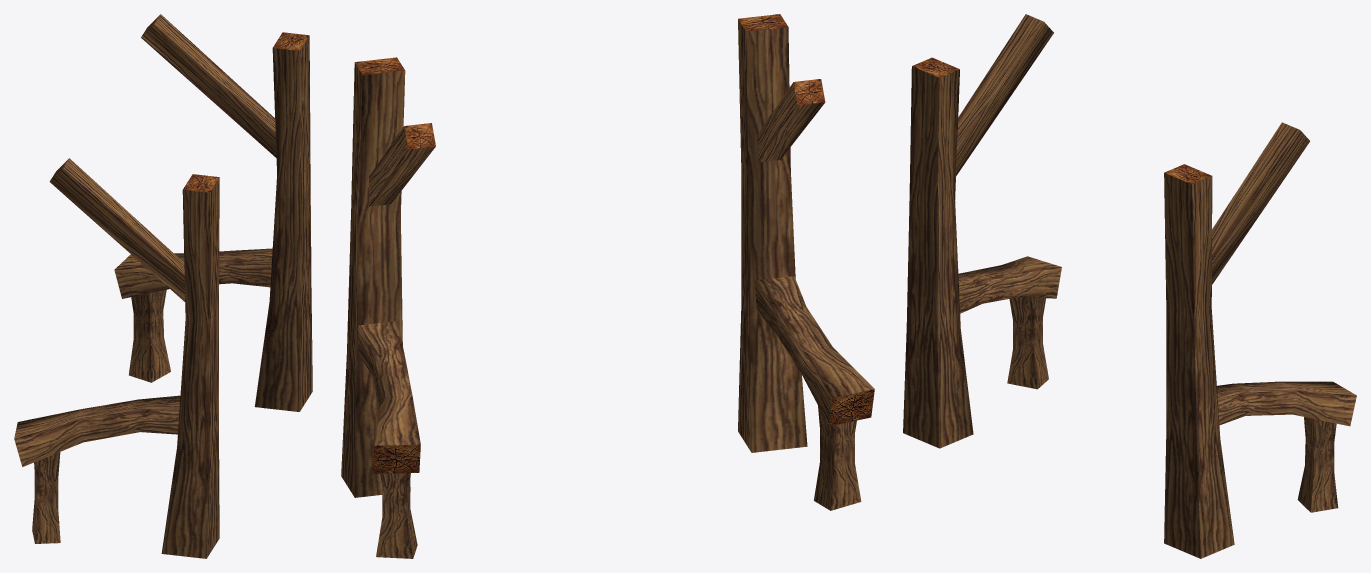
The model's file is LAKETOWN_EXTERIOR_PS_LT_TOWNHALL_BEAMS__GX.obj.
3 views of the same model, side by side, from view 1: azimuth 30°, elevation 25°; view 2: azimuth 150°, elevation 25°; view 3: azimuth 270°, elevation 25° (orthographic). The views are drawn at different scales.
Parts seen in each view (by area): view 1: nHall_Beams__GX; view 2: nHall_Beams__GX; view 3: nHall_Beams__GX.
Boxes of the visible parts, x1,y1,x2,y2 form: nHall_Beams__GX: [14, 14, 312, 558]; nHall_Beams__GX: [341, 14, 874, 558]; nHall_Beams__GX: [903, 14, 1356, 558].
Size of the model in its own units: 353 by 323 by 353.
